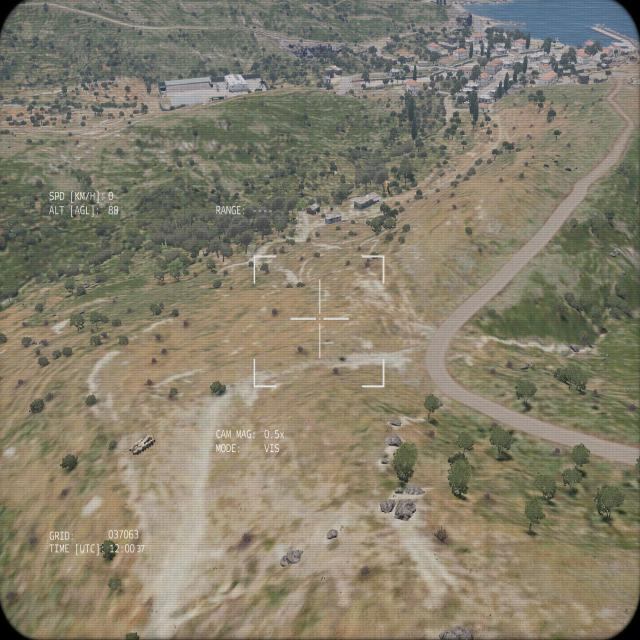tank: (122, 432, 154, 457)
